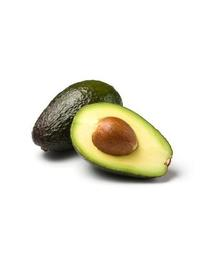avocado: (69, 101, 174, 180), (32, 79, 124, 156)
